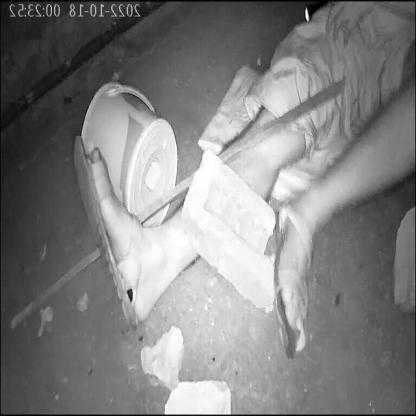leg: (263, 89, 416, 372), (65, 124, 201, 331)
